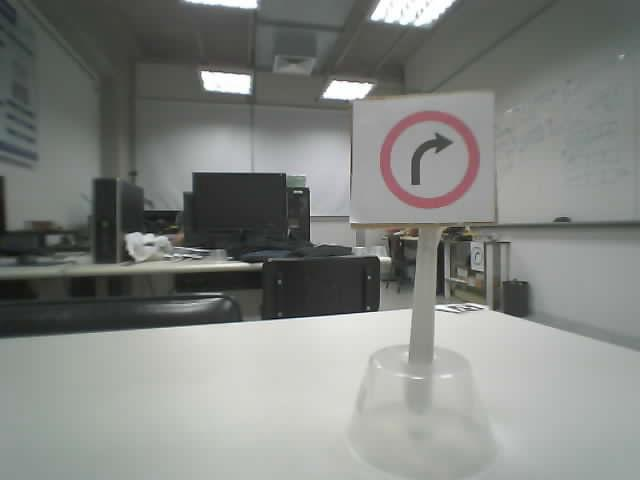R-25b_direita: (377, 109, 480, 209)
